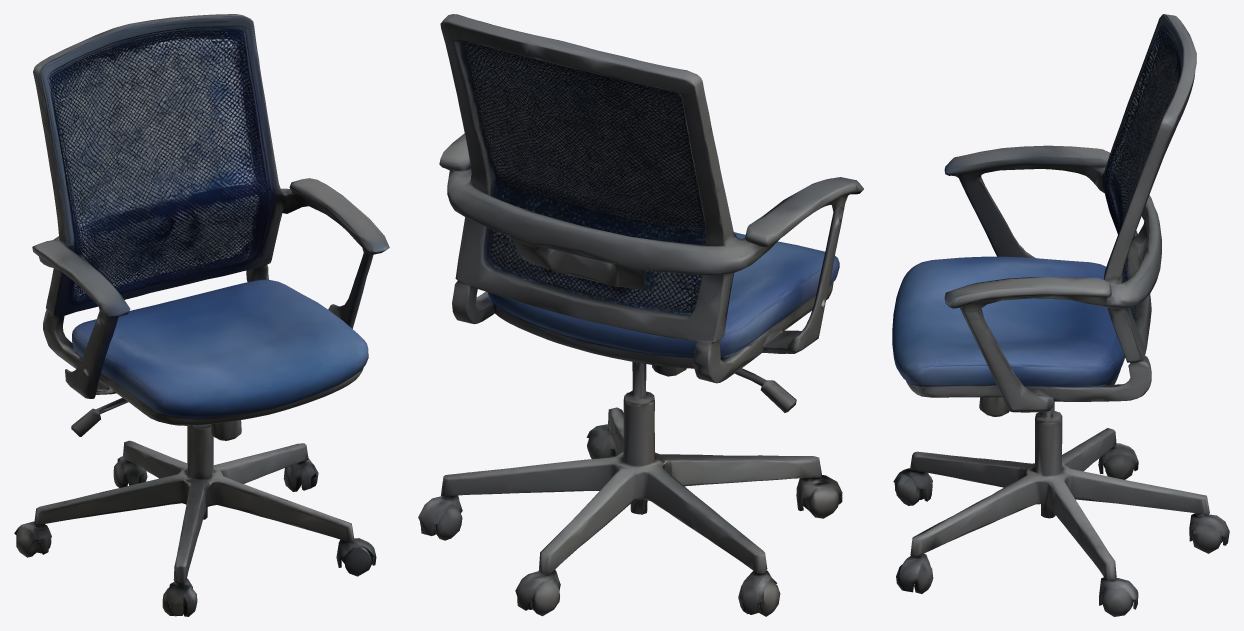
File: tripo_convert_eb71485a-84b5-43db-999e-bd0517b6321a.fbx
The picture shows the model from 3 angles, left to right: view 1: azimuth 30°, elevation 25°; view 2: azimuth 150°, elevation 25°; view 3: azimuth 270°, elevation 25°; orthographic projection. The views are drawn at different scales.
Parts seen in each view (by area): view 1: tripo_node_eb71485a; view 2: tripo_node_eb71485a; view 3: tripo_node_eb71485a.
Part boxes in pixels (x1,y1,x2,y2): tripo_node_eb71485a: [14, 14, 389, 616]; tripo_node_eb71485a: [418, 14, 863, 616]; tripo_node_eb71485a: [892, 14, 1229, 616].
Bounding box in the file's own units: 0.6541 × 1 × 0.6234.
1 material, 1 textured.
